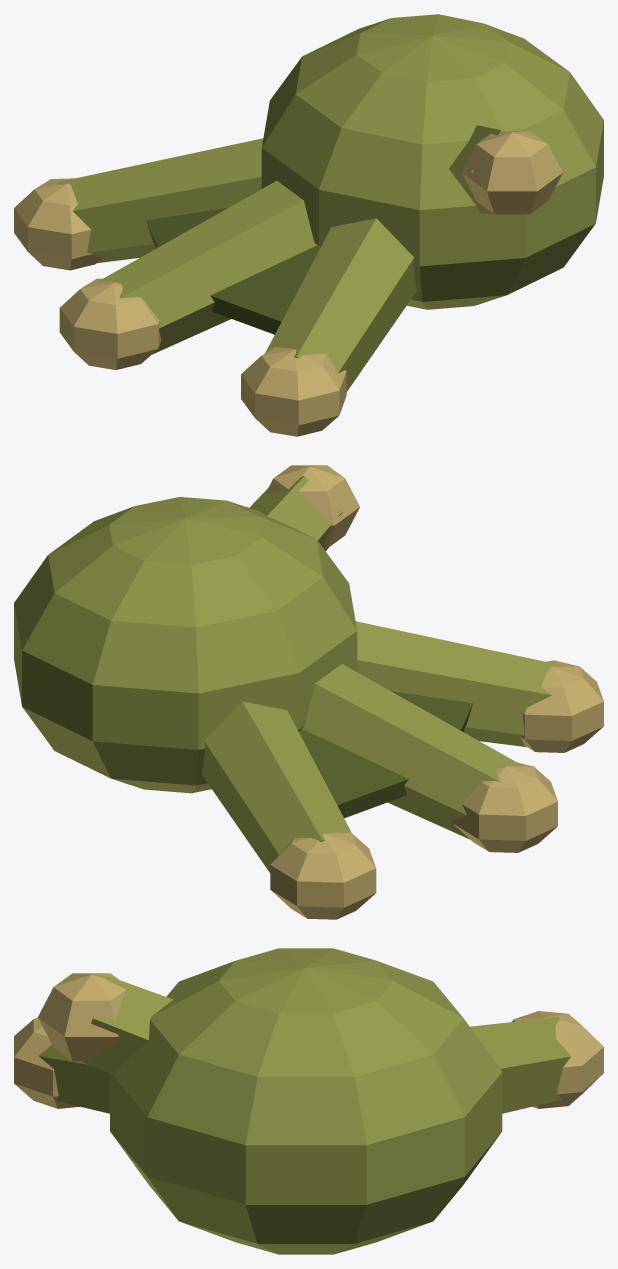
The model's file is pondkin_bloatking_hand_r.glb.
3 renders of one model, top to bottom at view 1: azimuth 30°, elevation 25°; view 2: azimuth 150°, elevation 25°; view 3: azimuth 270°, elevation 25°, orthographic. The views are drawn at different scales.
Parts seen in each view (by area): view 1: pondkin_bloatking_hand_r; view 2: pondkin_bloatking_hand_r; view 3: pondkin_bloatking_hand_r.
Boxes of the visible parts, box(x1,y1,x2,y2) form: pondkin_bloatking_hand_r: box(14, 14, 603, 436); pondkin_bloatking_hand_r: box(14, 465, 603, 919); pondkin_bloatking_hand_r: box(14, 948, 603, 1254).
Bounding box in the file's own units: 0.5551 × 0.264 × 0.5277.
